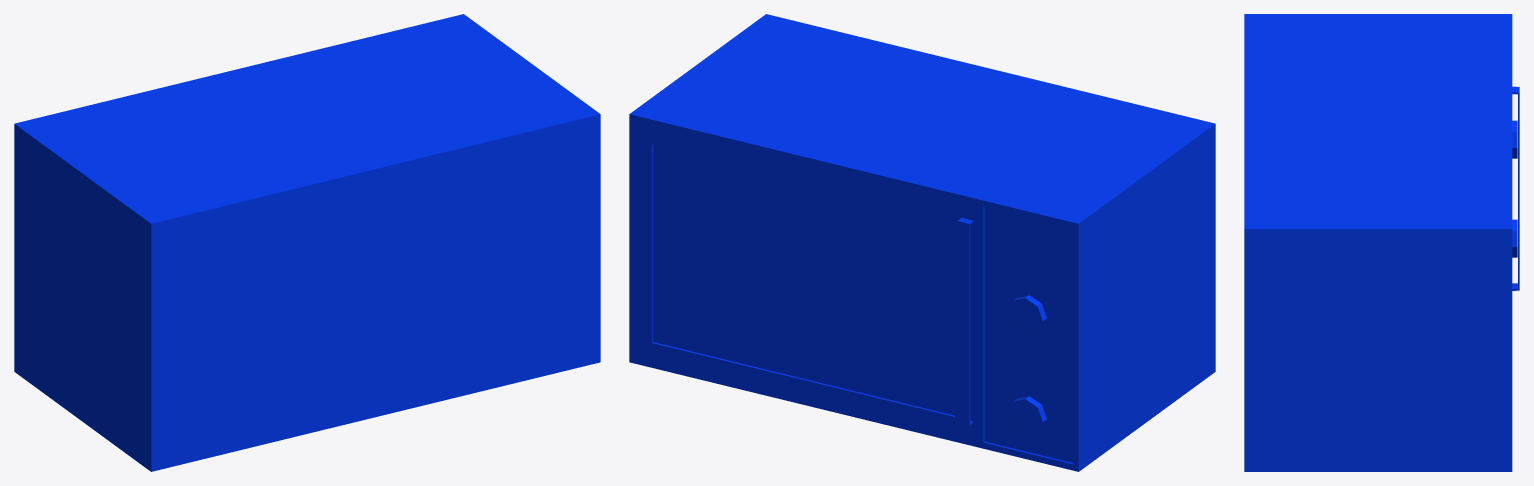
The model's file is Microondas.FBX.
3 renders of one model, left to right at view 1: azimuth 30°, elevation 25°; view 2: azimuth 150°, elevation 25°; view 3: azimuth 270°, elevation 25°, orthographic. The views are drawn at different scales.
Parts seen in each view (by area): view 1: Box001; view 2: Box001; view 3: Box001.
Boxes of the visible parts, x1,y1,x2,y2 form: Box001: (14,14,600,471); Box001: (629,14,1215,471); Box001: (1244,14,1519,471).
Size of the model in its own units: 1.06 by 0.5567 by 0.5719.
